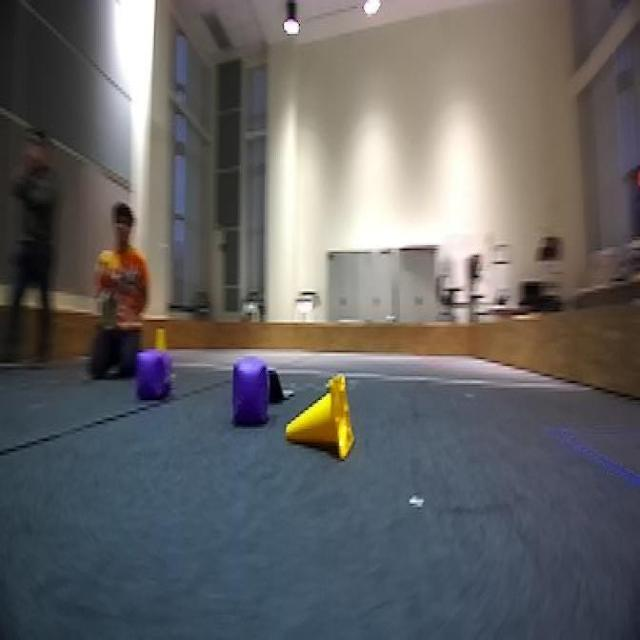frc_cone: (276, 369, 350, 462), (140, 320, 177, 356)
frc_cube: (224, 358, 268, 428), (134, 349, 170, 402)
